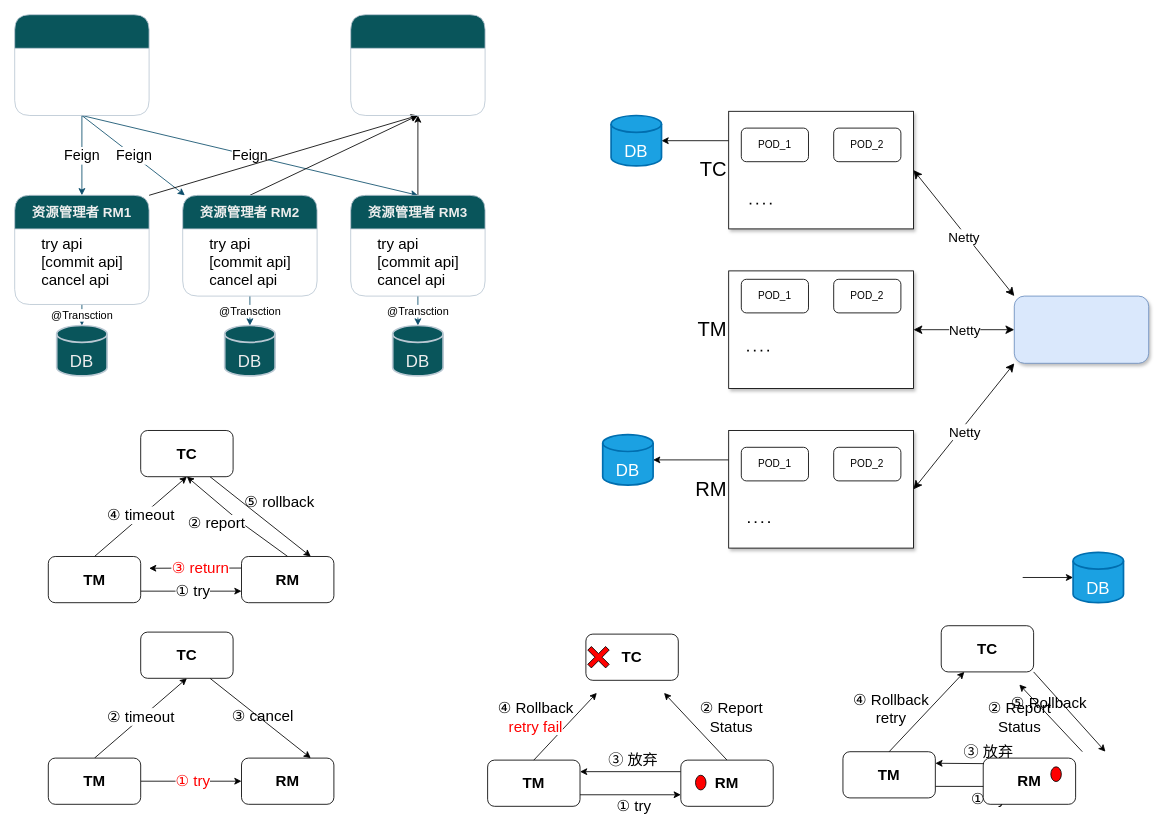
Image size: 1168x831. Some labels were removed from this diagram. Here are the shapes that lost their labels. From the top down, the centre of each, then its label:
At pixel 81 65: "事务管理者 TM".
At pixel 417 65: "事务协调者 TC".
At pixel 1082 330: "Nacos".
